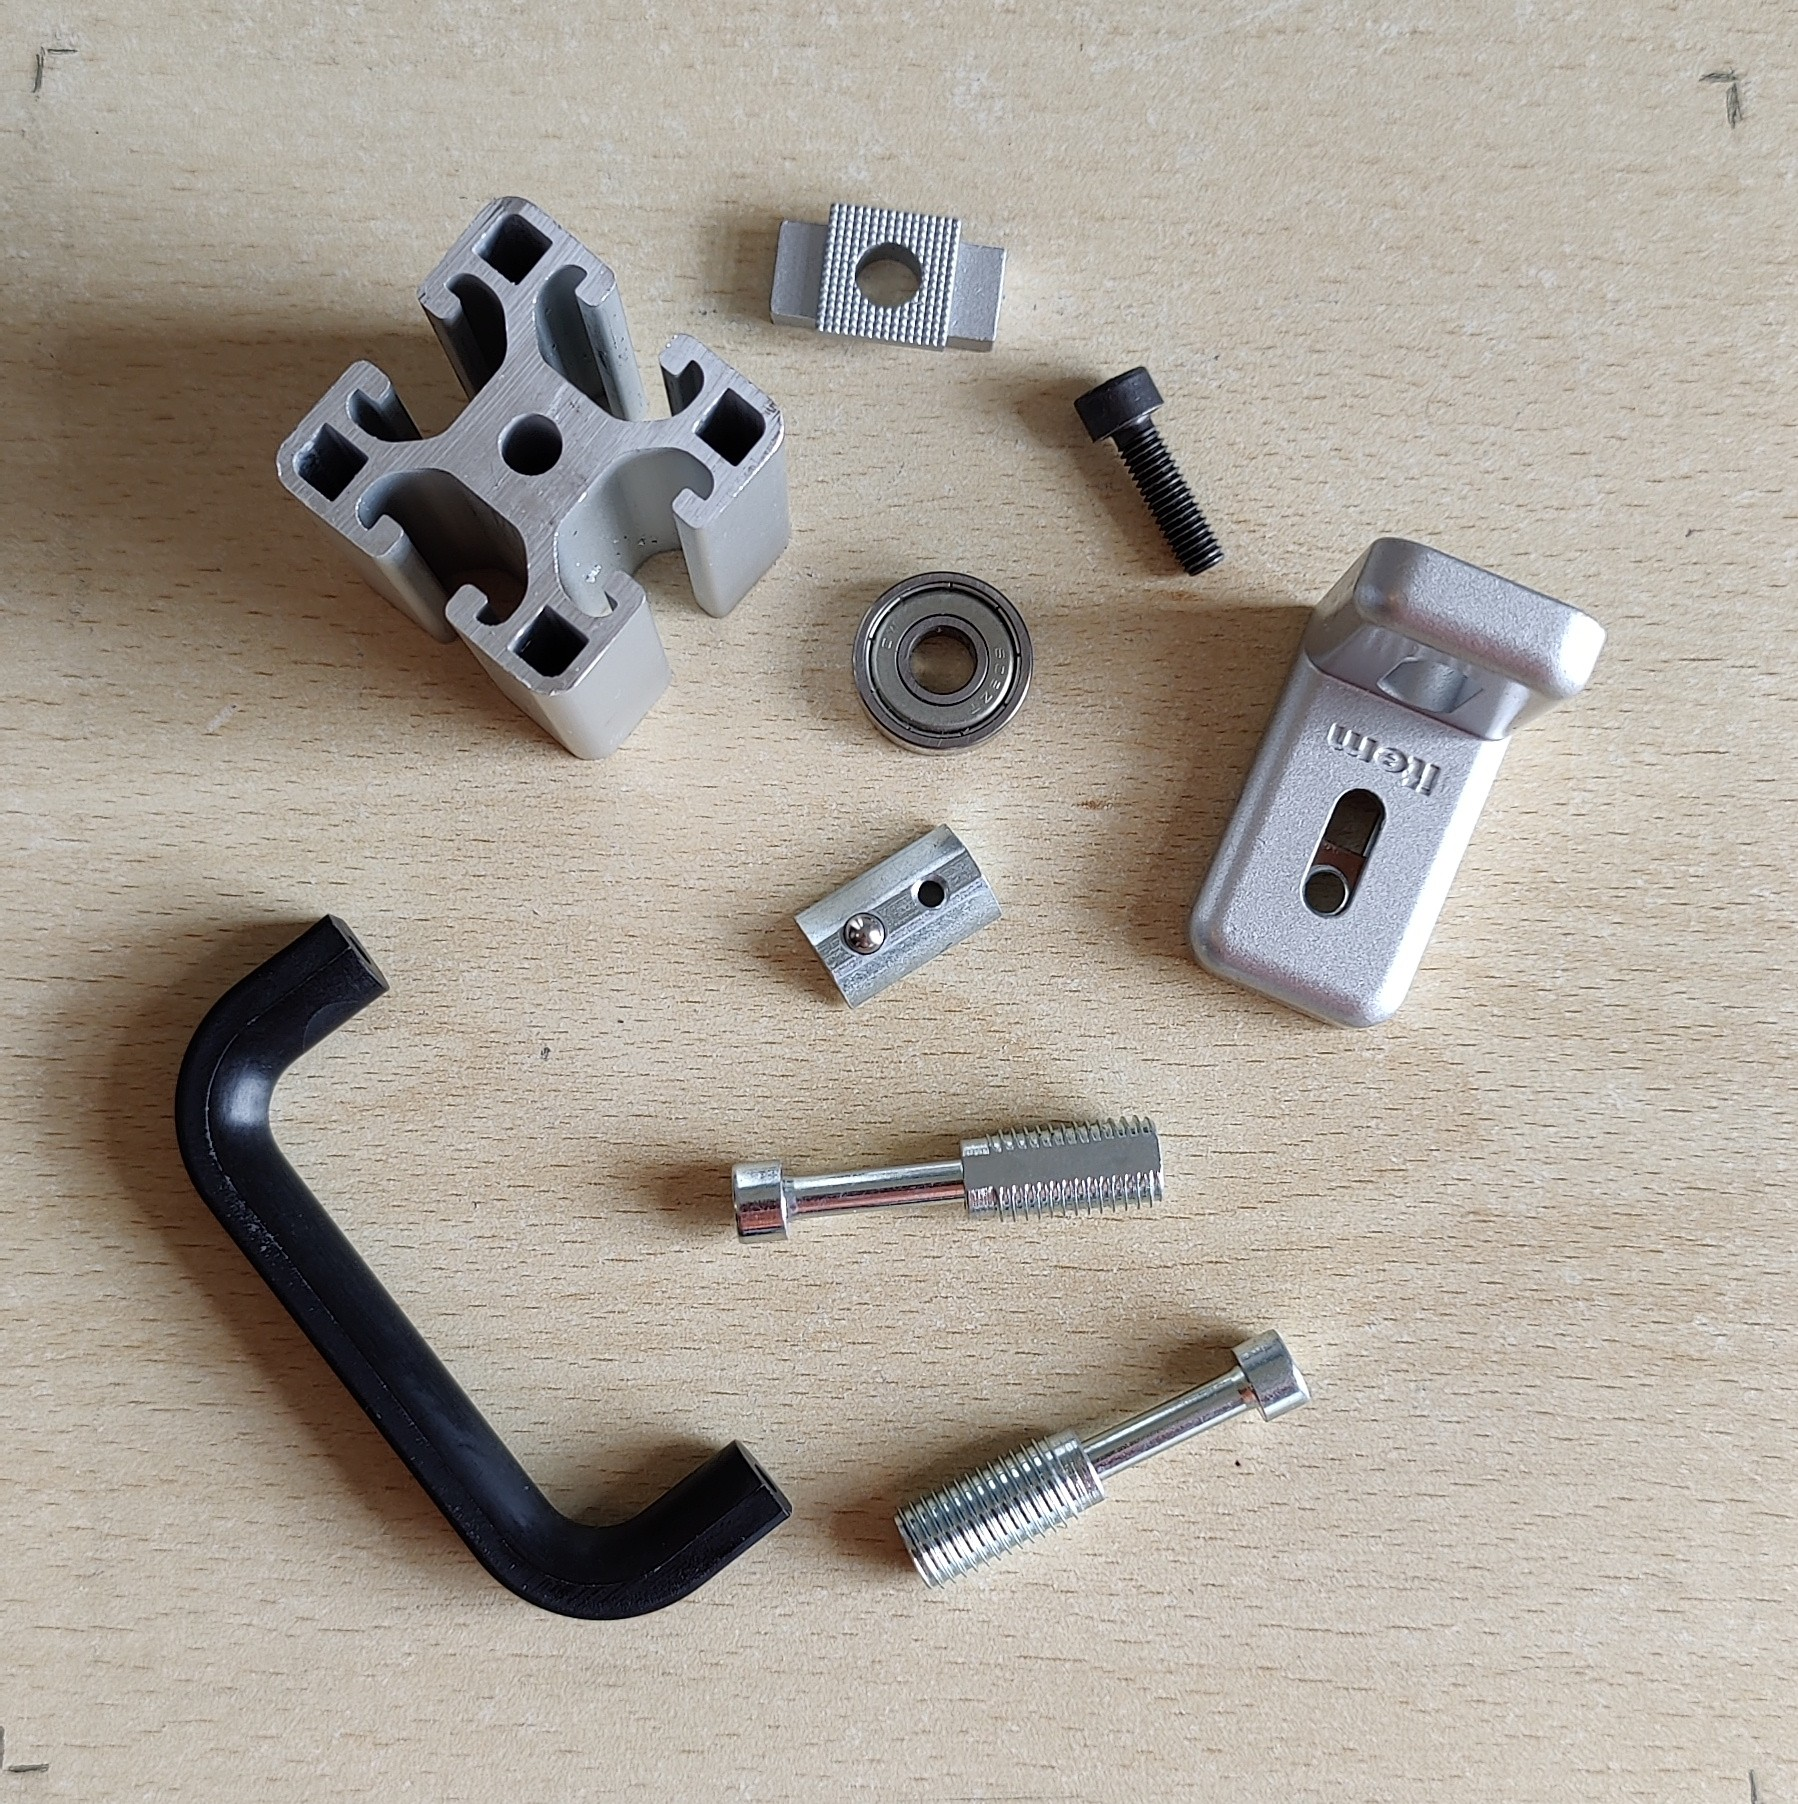Aluminium Extension: (273, 189, 795, 764)
Ball Bearing: (851, 568, 1036, 759)
Multiwinkel: (1185, 533, 1610, 1034)
Pull Handle: (170, 910, 795, 1623)
Shoulder Socket Head Cap Screw: (892, 1327, 1317, 1592), (728, 1108, 1167, 1248)
Socket Head Cap Screw: (1072, 362, 1227, 579)
T Nut Square: (767, 198, 1011, 356)
T Spring Nut: (792, 820, 1008, 1011)
